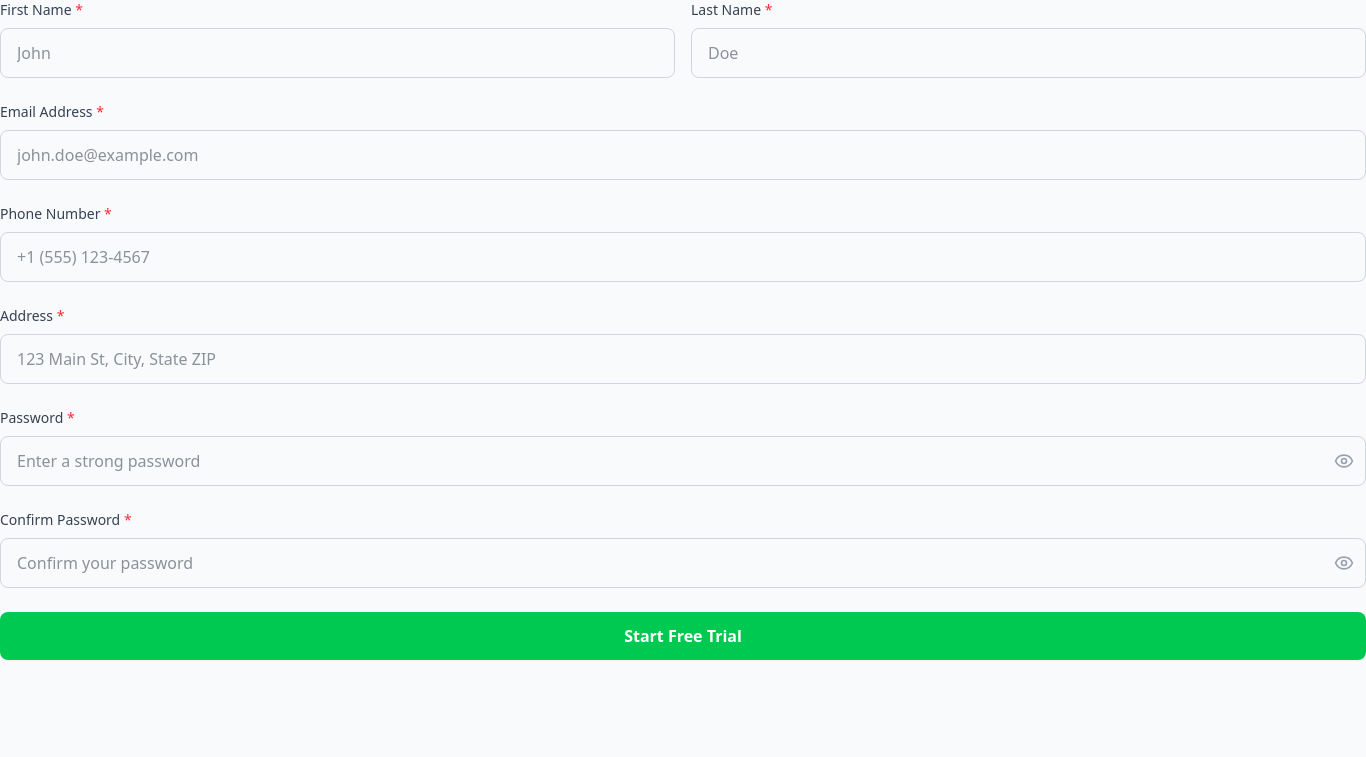
Test: RegistrationForm › Form Validation › should show error when first name is empty
Click the button "Start Free Trial" at (683, 636), box [0,612,1365,660]
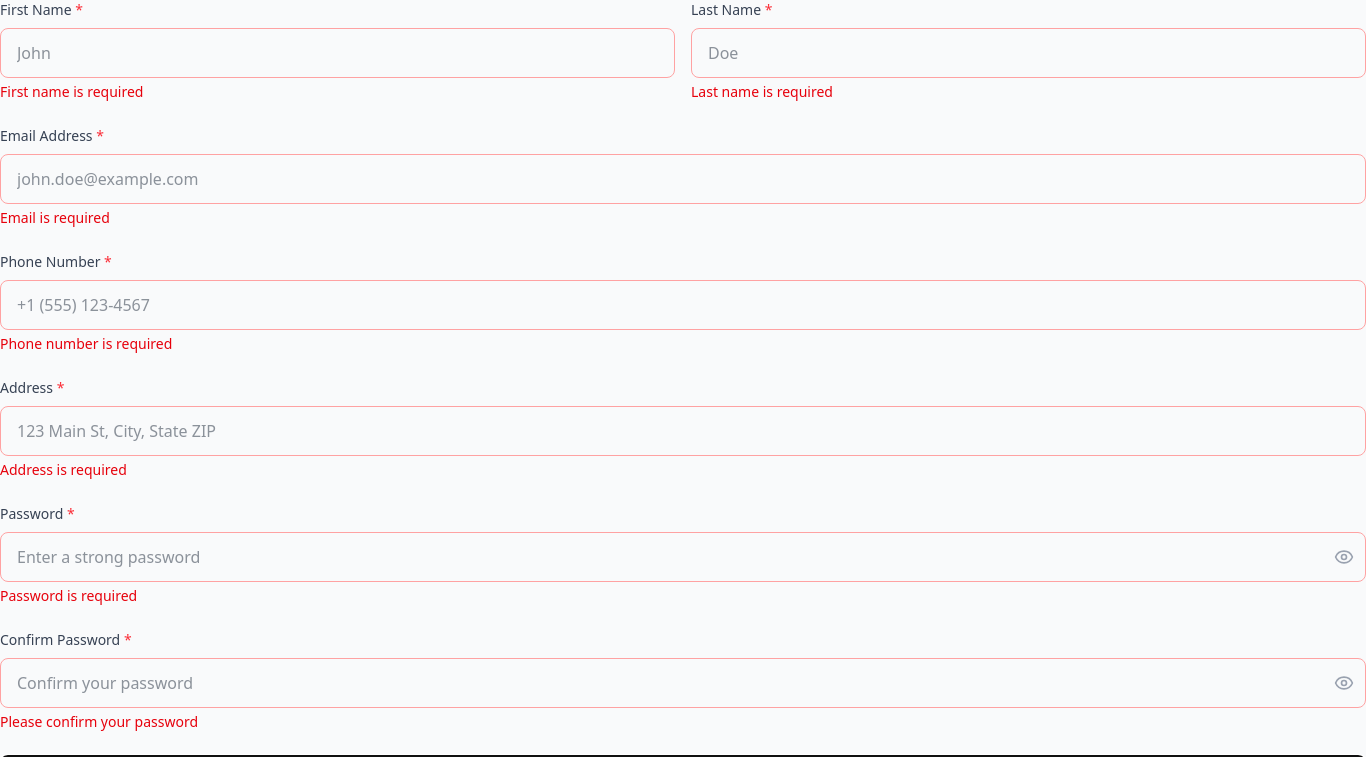
expect the text "First name is required" is shown: met, box [0,82,143,101]
